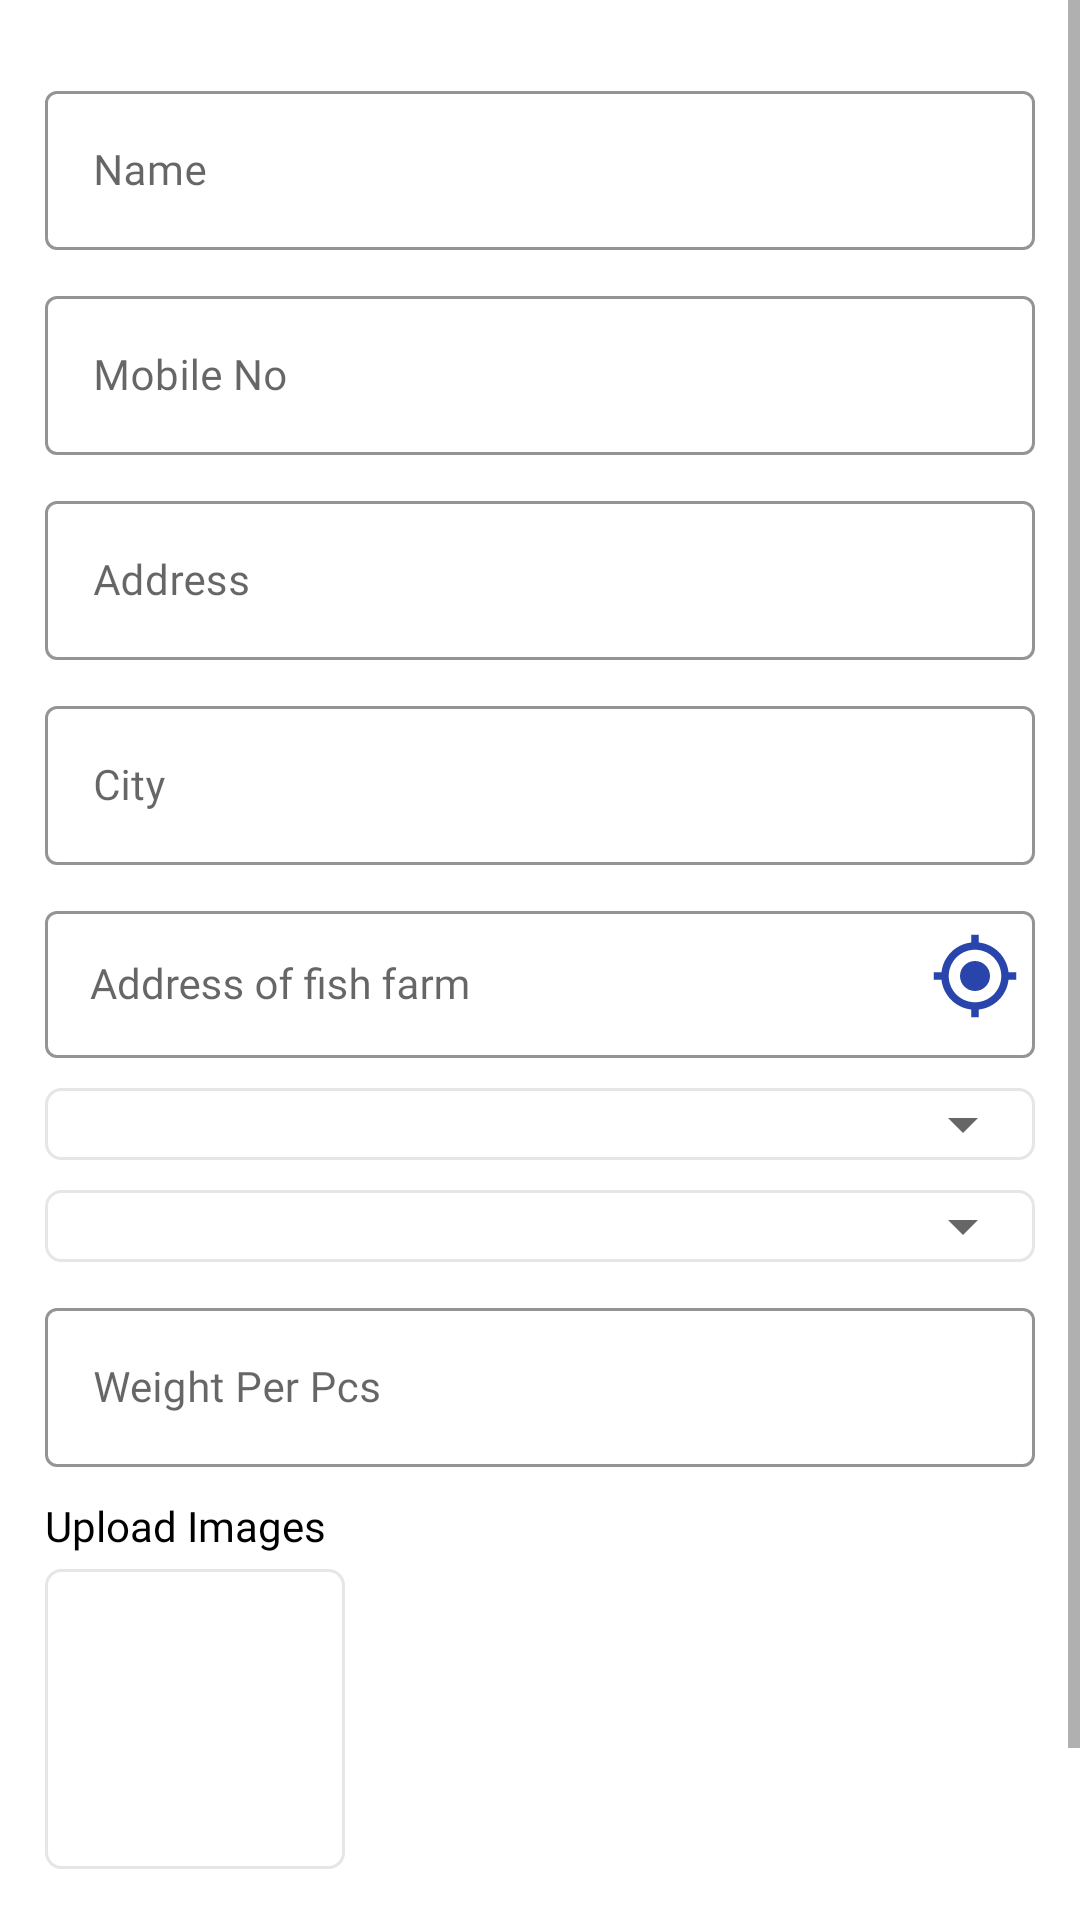

Icons on this 1080px x 1920px Android screen, each with its box as (x1, y1, x2, y2):
location: (933, 934, 1017, 1018)
